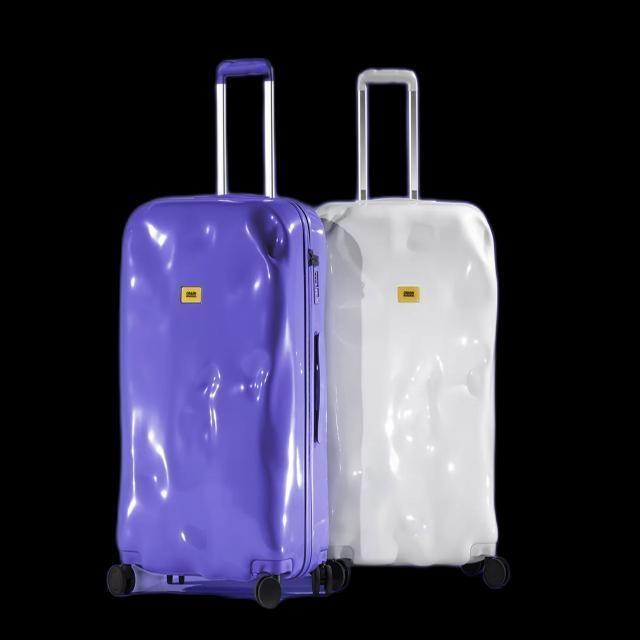Suitcase: (93, 38, 320, 610), (330, 59, 502, 593)
